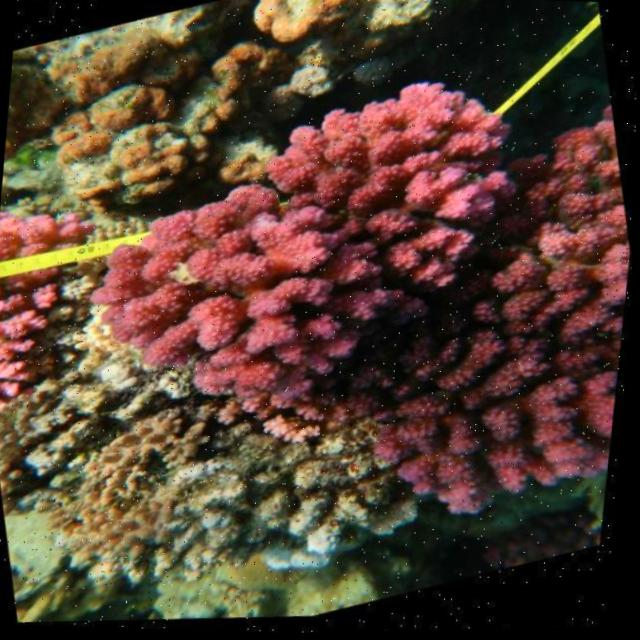Healthy Coral: (92, 13, 639, 517), (0, 192, 120, 415)
